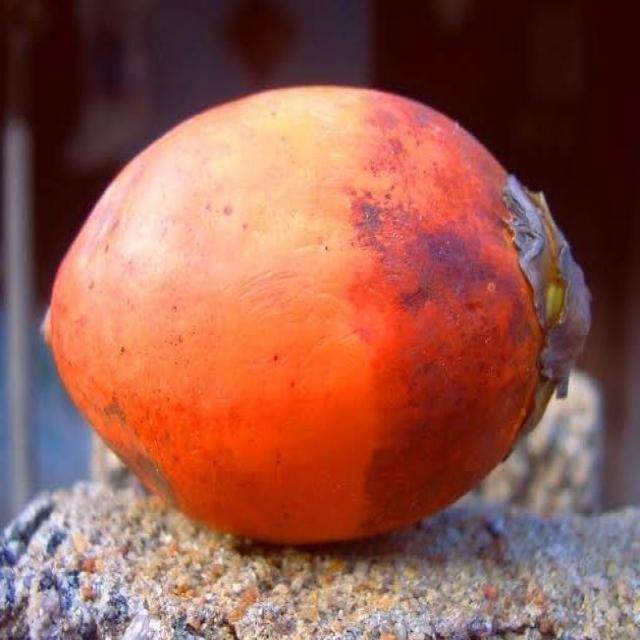good: (43, 85, 589, 550)
